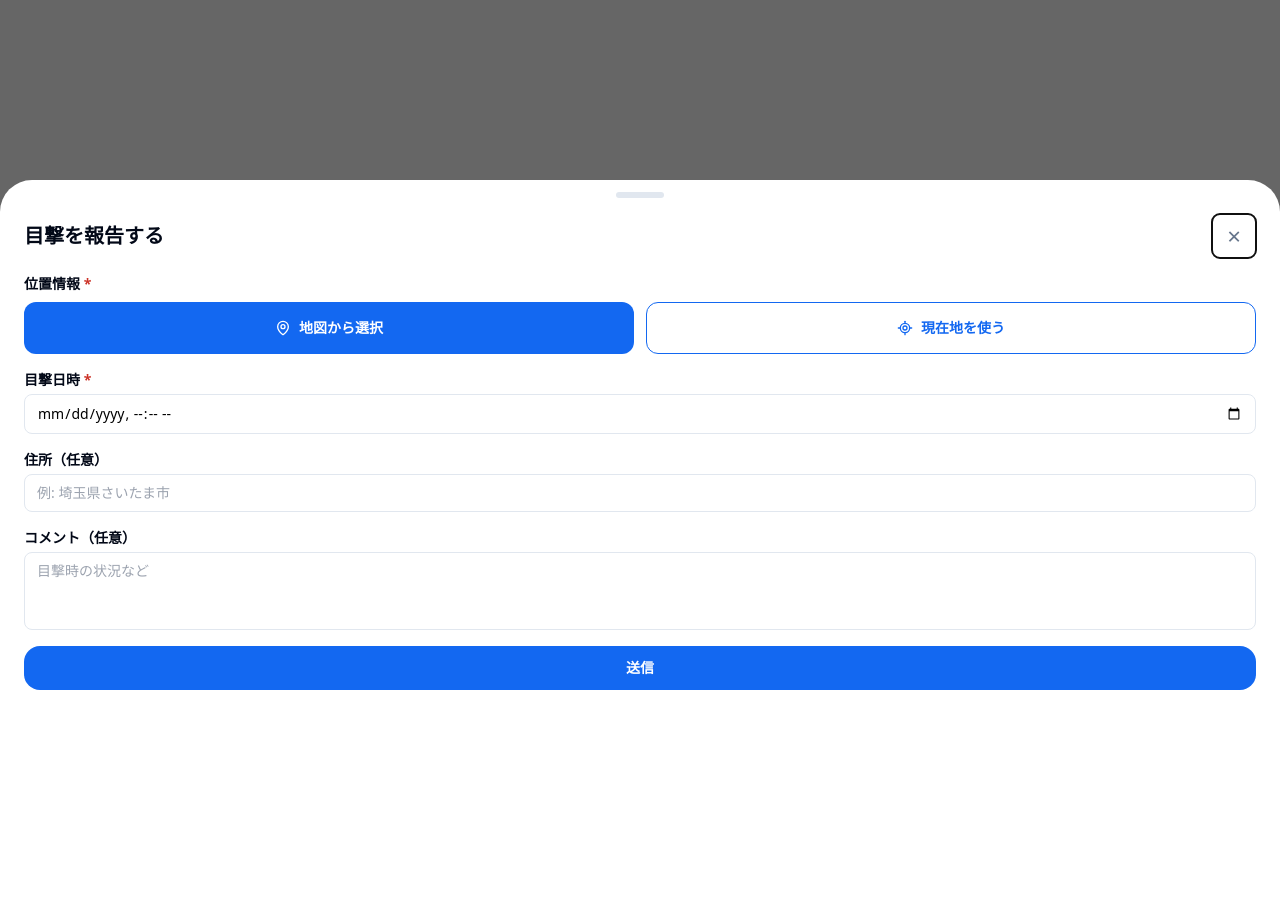
Test: SightingModal › 現在地を使う › geolocation 失敗時、エラーメッセージが表示されること
The image size is (1280, 900).
Click the button "現在地を使う" at (951, 328), box [646,302,1256,354]
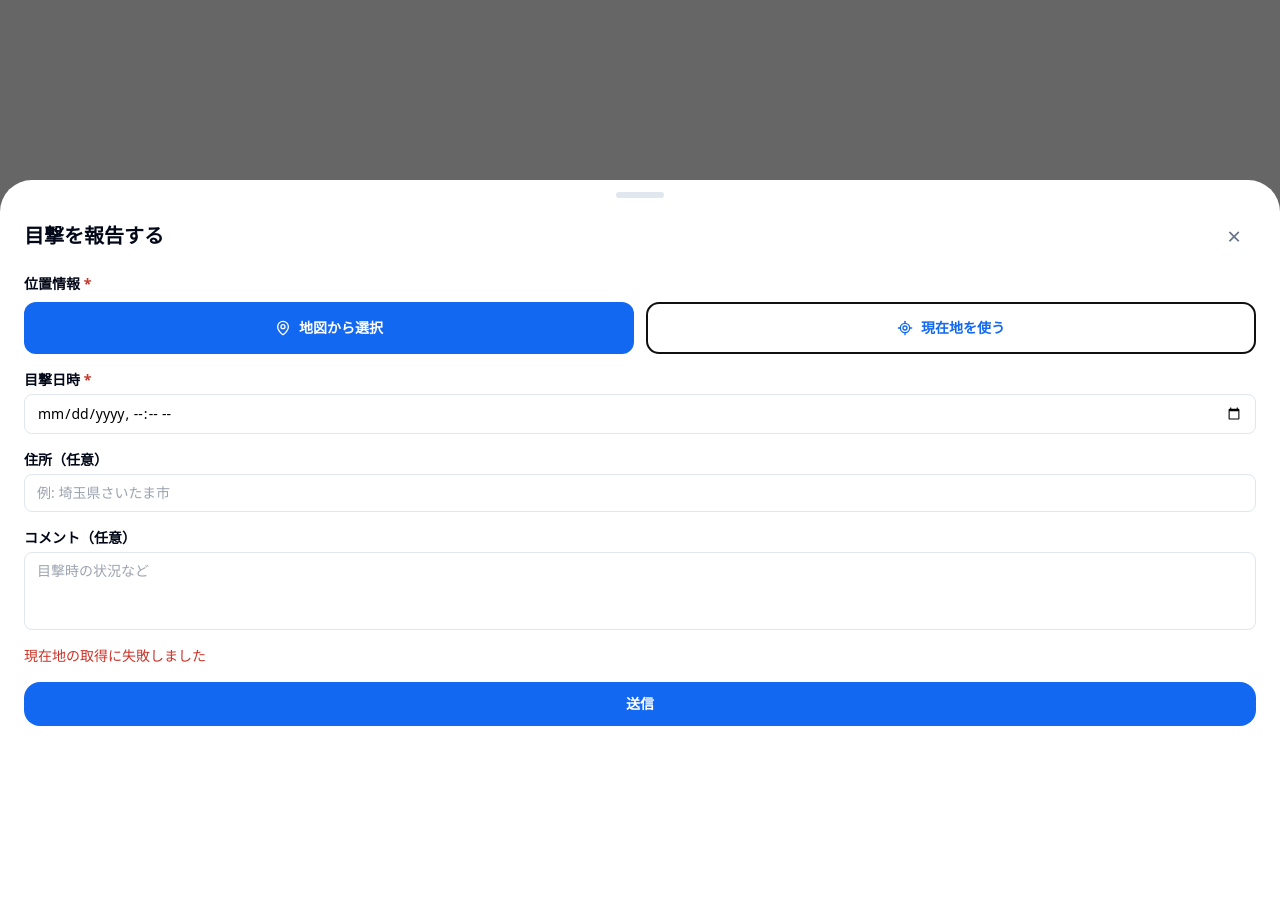
Check: the text "現在地の取得に失敗しました" is shown, box [24,646,206,665]
